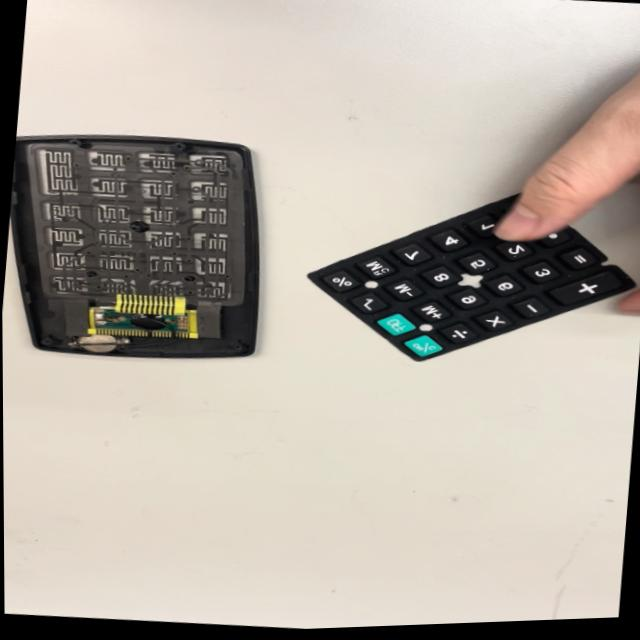front_panel: (7, 113, 257, 377)
number_pad: (292, 176, 640, 395)
